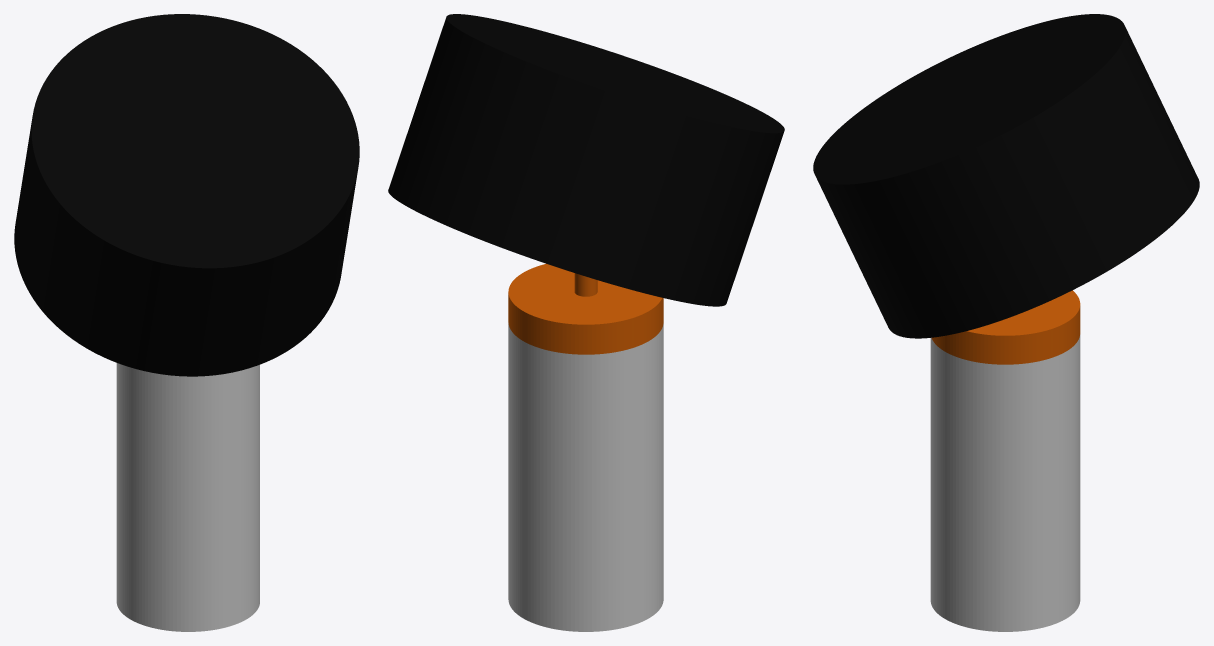
File: lamp25.obj
The picture shows the model from 3 angles, left to right: view 1: azimuth 30°, elevation 25°; view 2: azimuth 150°, elevation 25°; view 3: azimuth 270°, elevation 25°; orthographic projection. The views are drawn at different scales.
Visible parts, largest first — view 1: Cylinder.002, Cylinder; view 2: Cylinder.002, Cylinder, Cylinder.001; view 3: Cylinder.002, Cylinder, Cylinder.001.
Boxes of the visible parts, x1,y1,x2,y2 form: Cylinder.002: [14, 14, 359, 376]; Cylinder: [116, 363, 259, 631]; Cylinder.002: [388, 14, 784, 306]; Cylinder: [508, 323, 663, 631]; Cylinder.001: [508, 263, 663, 354]; Cylinder.002: [813, 14, 1199, 338]; Cylinder: [930, 335, 1080, 631]; Cylinder.001: [931, 290, 1080, 364].
Size of what is drawn, in the model's own units: 4.86 by 8.32 by 5.17.
